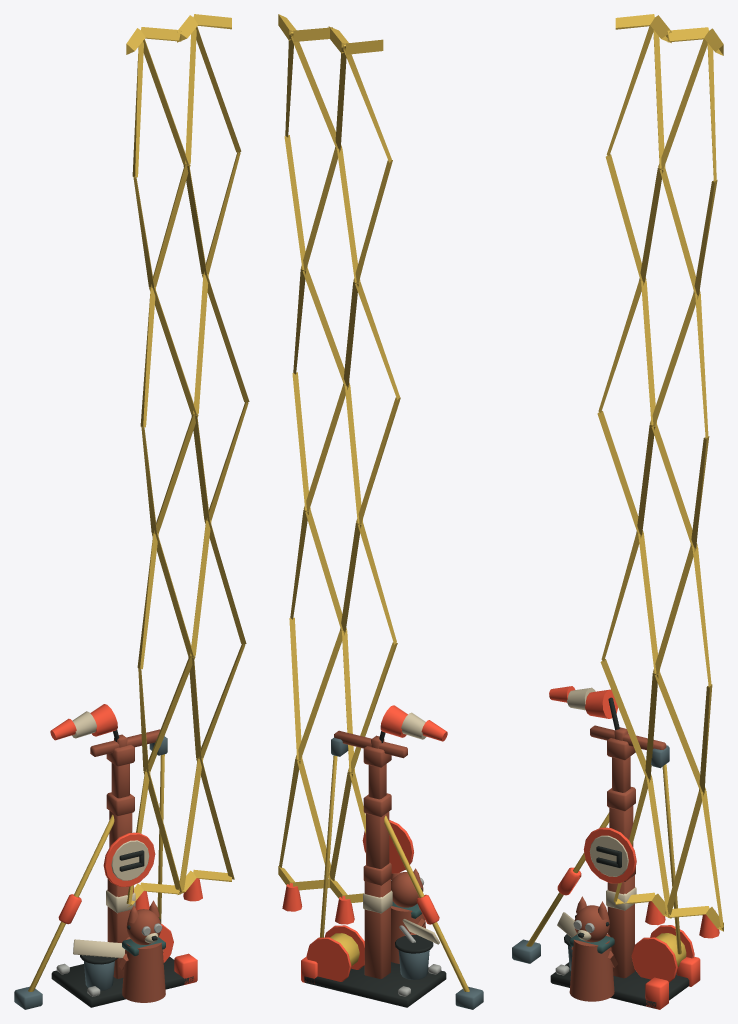
The model's file is enemy_gap_net_curtain.glb.
3 renders of one model, left to right at view 1: azimuth 30°, elevation 25°; view 2: azimuth 150°, elevation 25°; view 3: azimuth 330°, elevation 25°, orthographic. The views are drawn at different scales.
Visible parts, largest first — view 1: GapNetSpan, GapNetPost; view 2: GapNetSpan, GapNetPost, GapNetBatten; view 3: GapNetSpan, GapNetPost, GapNetBatten.
Part boxes in pixels (x1,y1,x2,y2): GapNetSpan: [126, 14, 249, 910]; GapNetPost: [14, 704, 197, 1009]; GapNetSpan: [278, 14, 400, 924]; GapNetPost: [301, 705, 483, 1009]; GapNetBatten: [306, 925, 364, 981]; GapNetSpan: [597, 14, 723, 938]; GapNetPost: [512, 686, 700, 1009]; GapNetBatten: [631, 925, 694, 982].
Bounding box in the file's own units: 3.93 × 17.08 × 1.88.
